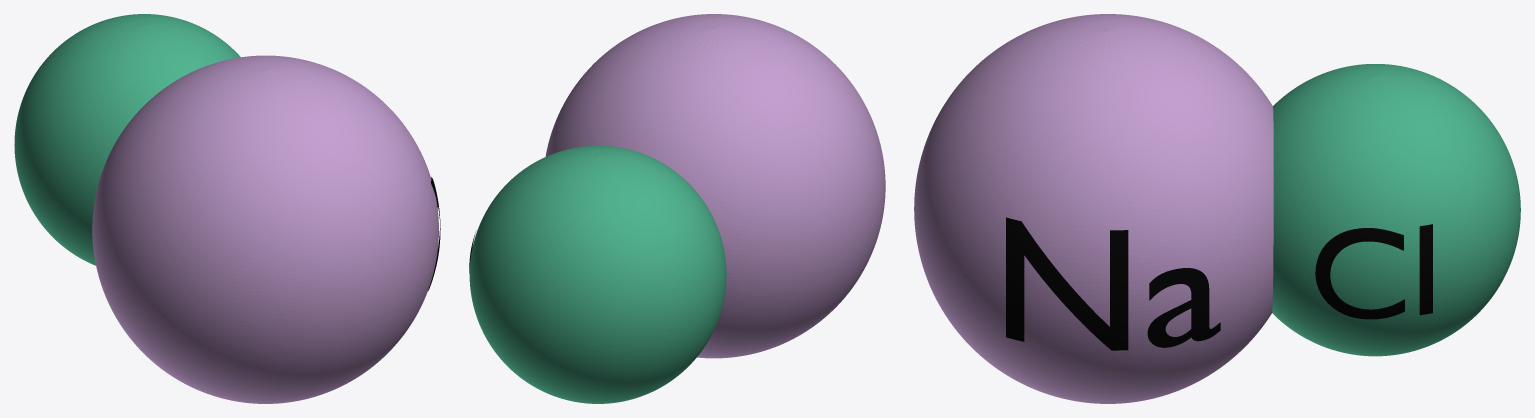
The model's file is Sodium Chloride (NaCl).fbx.
3 renders of one model, left to right at view 1: azimuth 30°, elevation 25°; view 2: azimuth 150°, elevation 25°; view 3: azimuth 270°, elevation 25°, orthographic. The views are drawn at different scales.
Parts seen in each view (by area): view 1: Sphere.015, Sphere.013; view 2: Sphere.015, Sphere.013; view 3: Sphere.015, Sphere.013, Text.015, Text.013.
Part boxes in pixels (x1,y1,x2,y2): Sphere.015: (92, 55, 438, 403); Sphere.013: (14, 14, 240, 265); Sphere.015: (545, 14, 885, 358); Sphere.013: (469, 145, 726, 403); Sphere.015: (914, 14, 1273, 403); Sphere.013: (1272, 64, 1520, 356); Text.015: (1006, 217, 1220, 350); Text.013: (1315, 224, 1432, 319).
Size of the model in its own units: 198 by 200 by 309.
